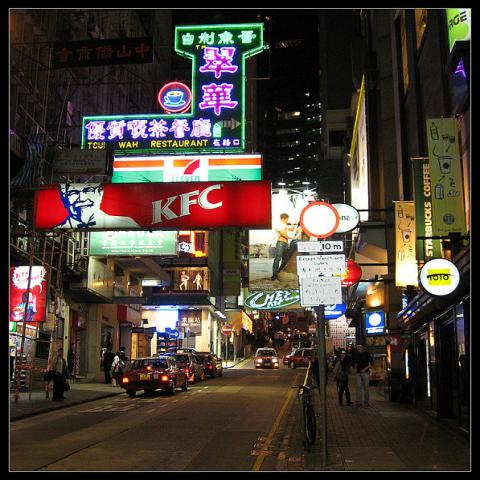car: (112, 356, 188, 398), (162, 353, 205, 383), (193, 351, 224, 377), (282, 348, 314, 370), (253, 347, 279, 368), (165, 347, 199, 354)
